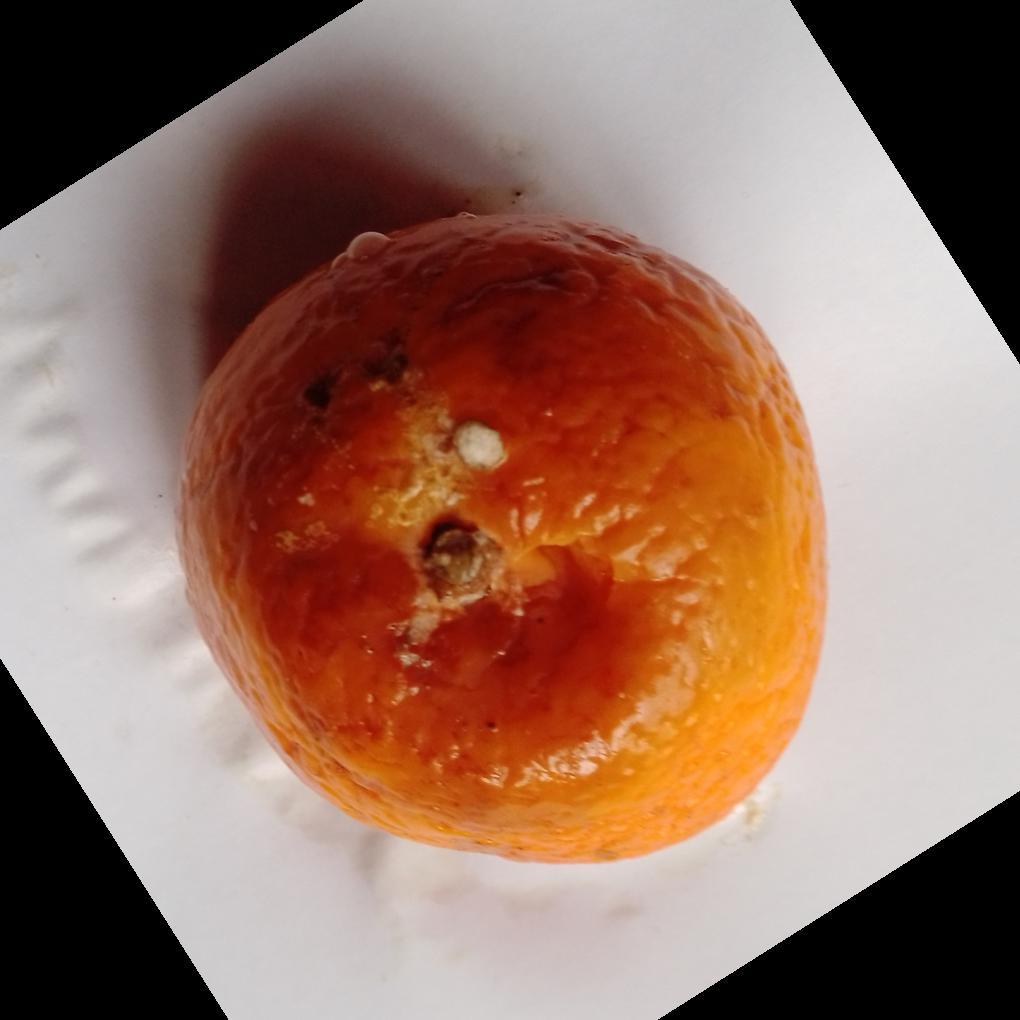FreshOrange: (173, 211, 830, 868)
